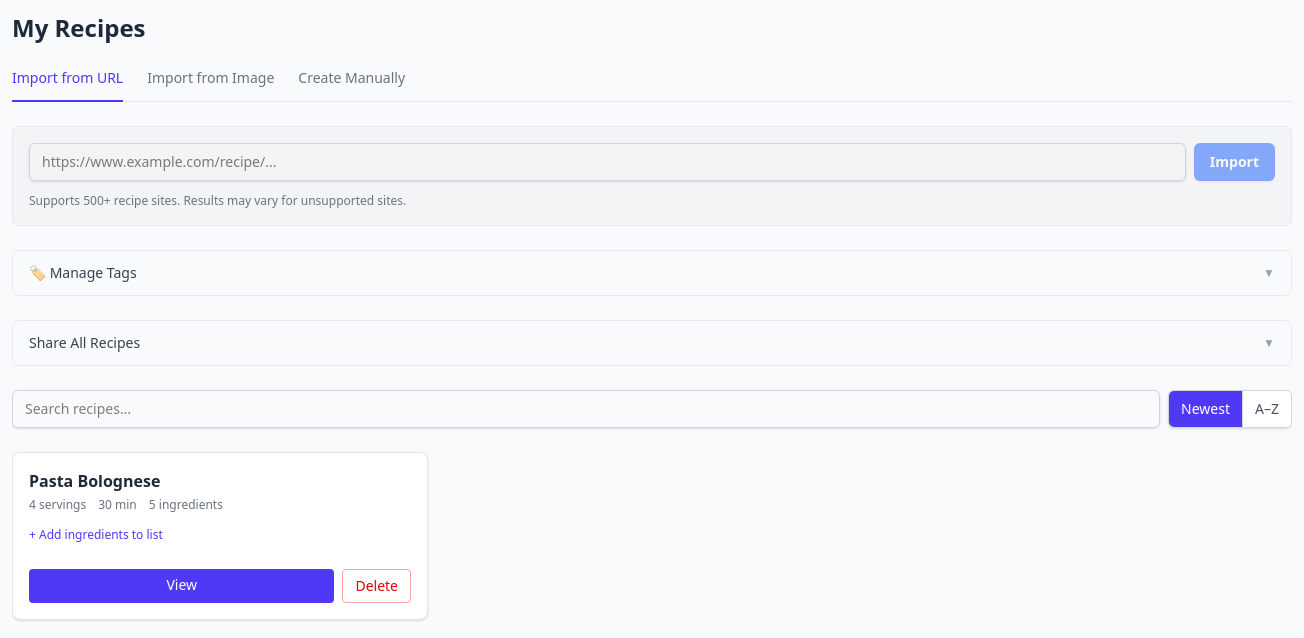
Test: RecipesPage › Add to list shows success message on ok response
Expected: the heading "Pasta Bolognese" is shown, [29,470,160,492]
Click the button "+ Add ingredients to list".
click(96, 535)  # box [29,527,163,543]
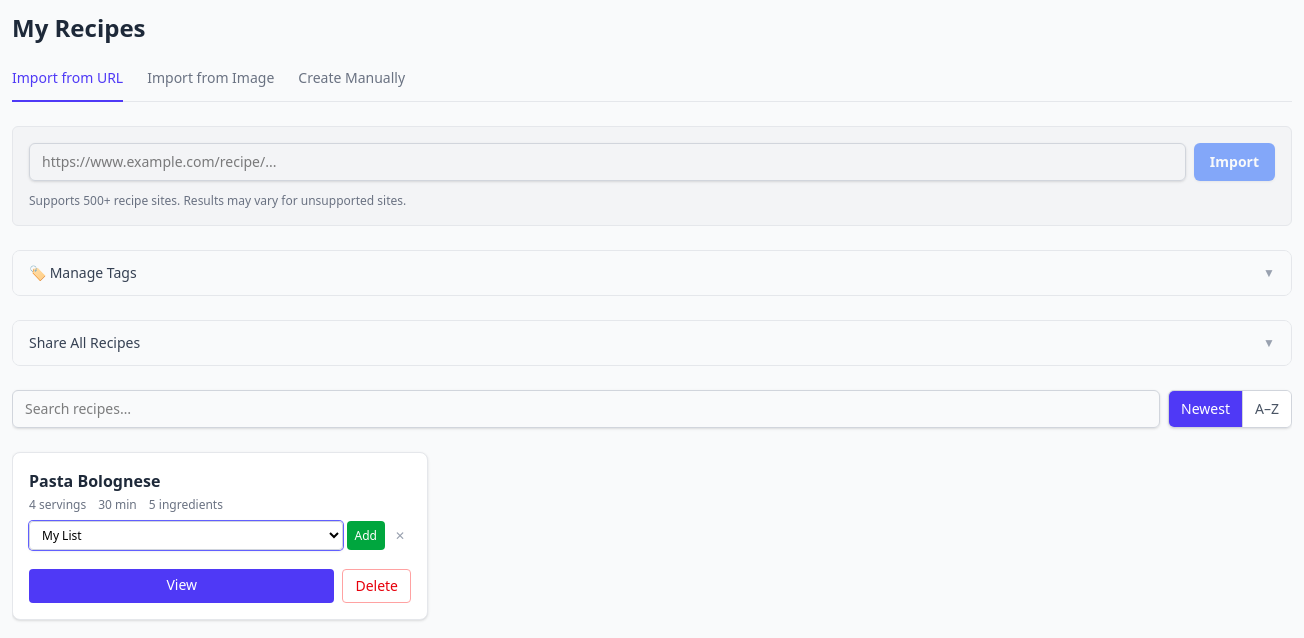
Click the button "Add".
click(366, 536)  # box [346,521,385,550]
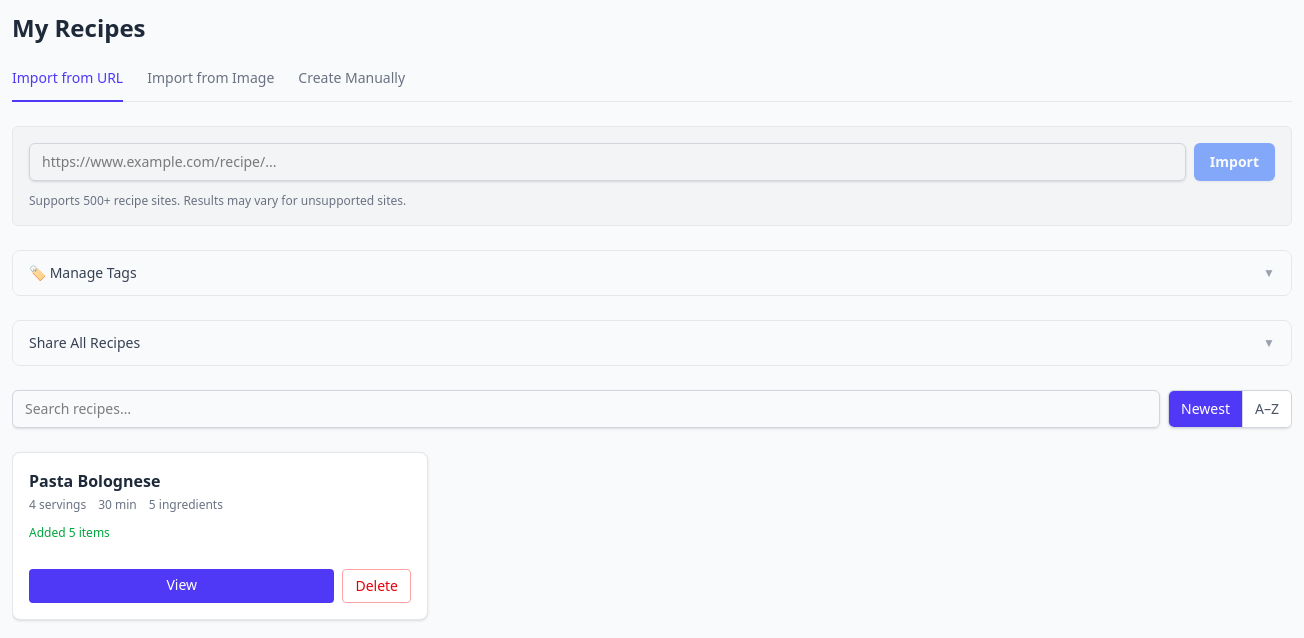
Result: the text "Added 5 items" is shown at [29,524,110,541]
